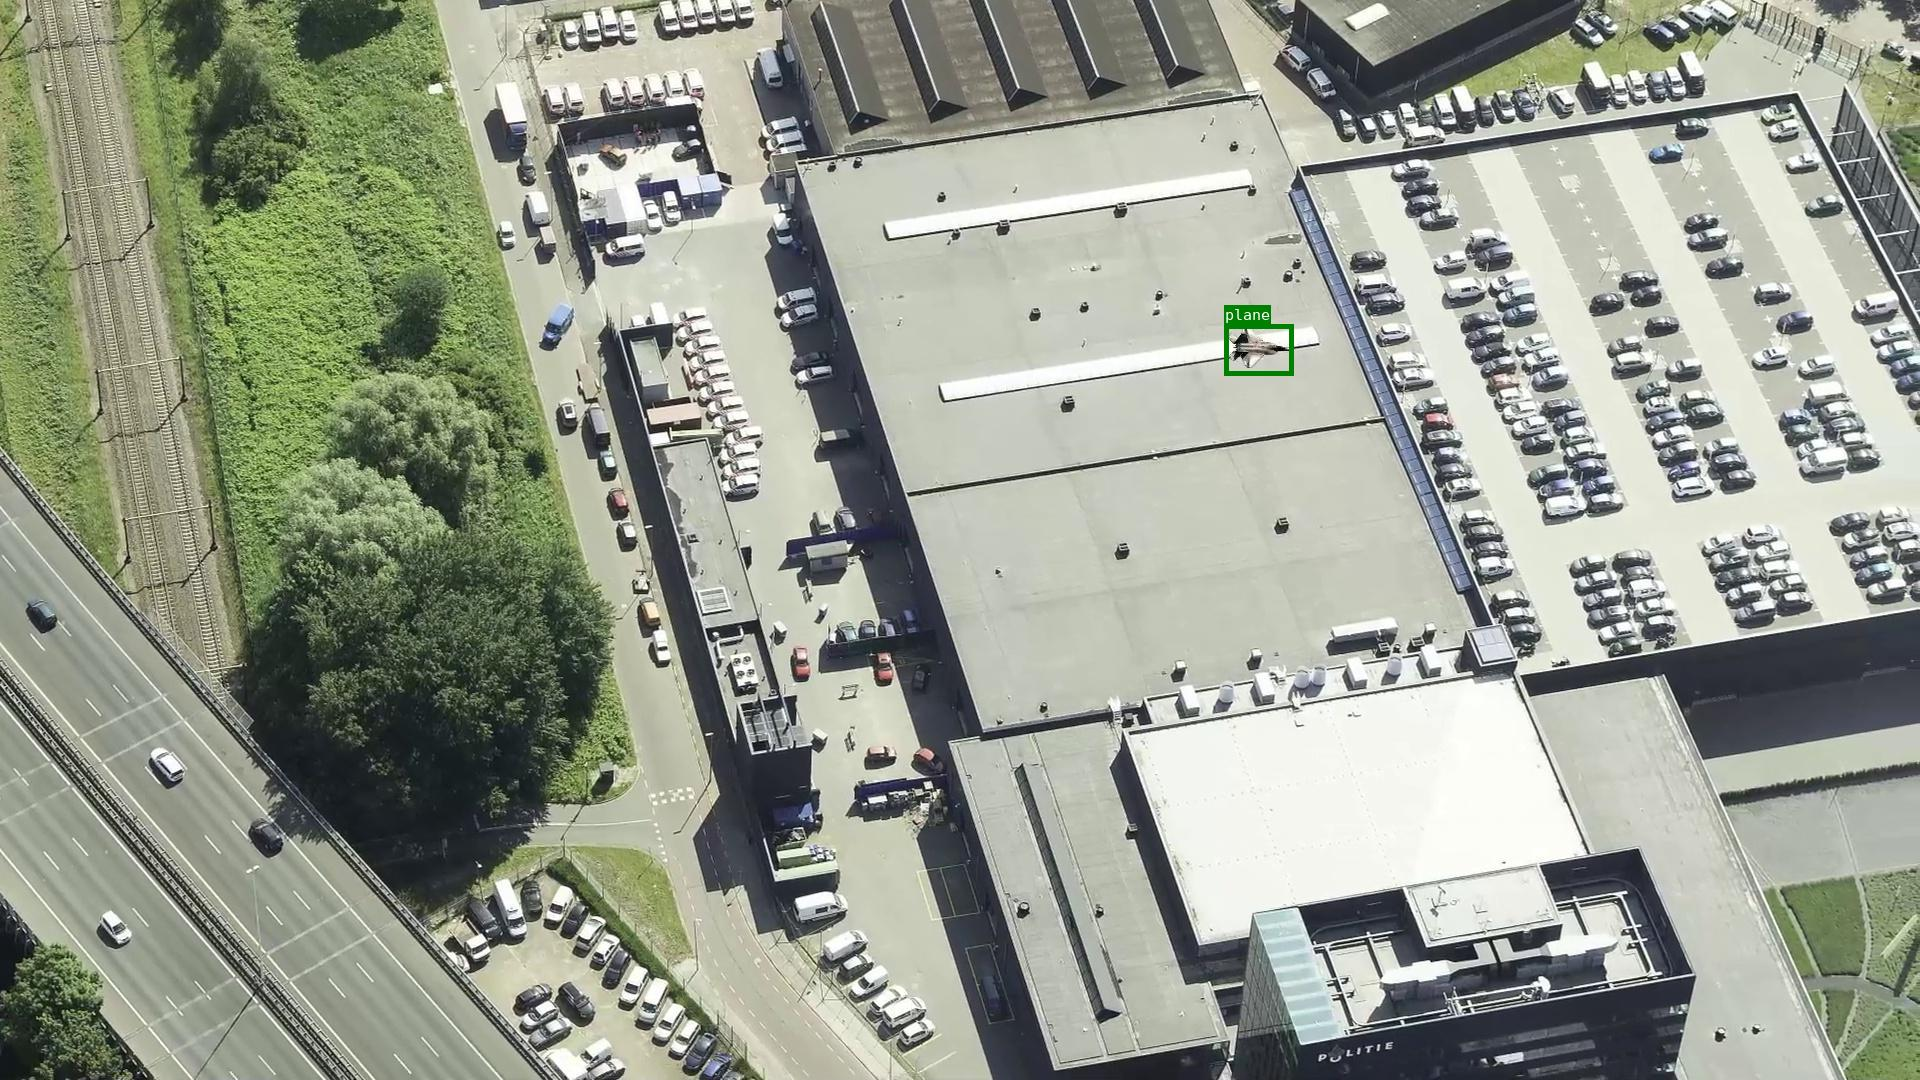plane: (1224, 324, 1294, 375)
